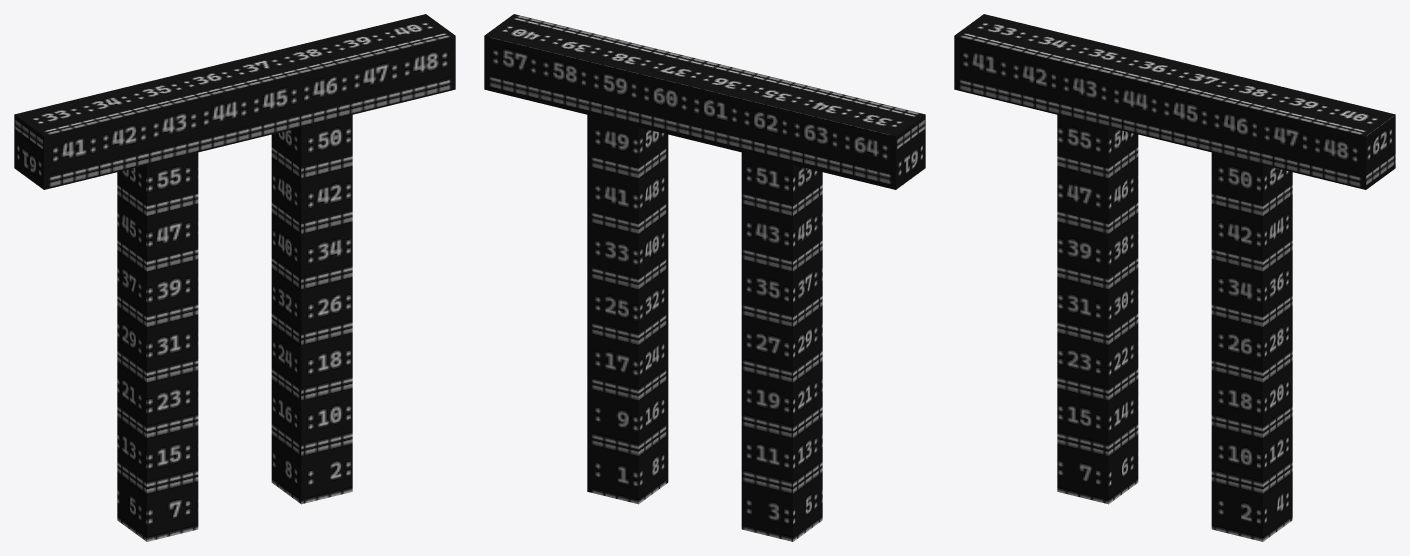
3 renders of one model, left to right at view 1: azimuth 30°, elevation 25°; view 2: azimuth 150°, elevation 25°; view 3: azimuth 330°, elevation 25°, orthographic.
Parts seen in each view (by area): view 1: 围栏; view 2: 围栏; view 3: 围栏.
Boxes of the visible parts, bbox=[...] form: 围栏: bbox=[14, 14, 455, 541]; 围栏: bbox=[484, 14, 925, 541]; 围栏: bbox=[954, 14, 1395, 541].
Size of the model in its own units: 100 by 100 by 12.5.
